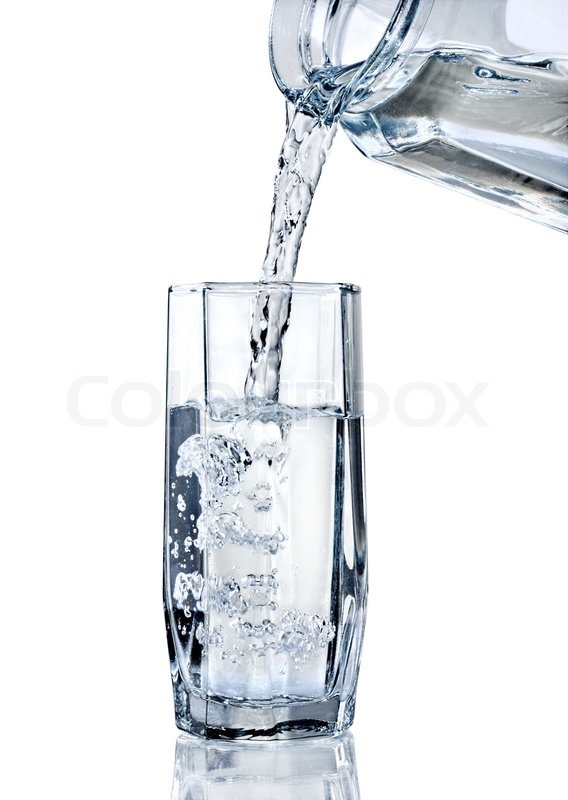glass of water: (157, 283, 367, 743)
